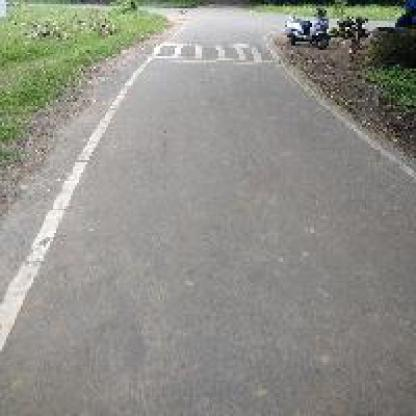Speed Bump: (143, 38, 283, 66)
